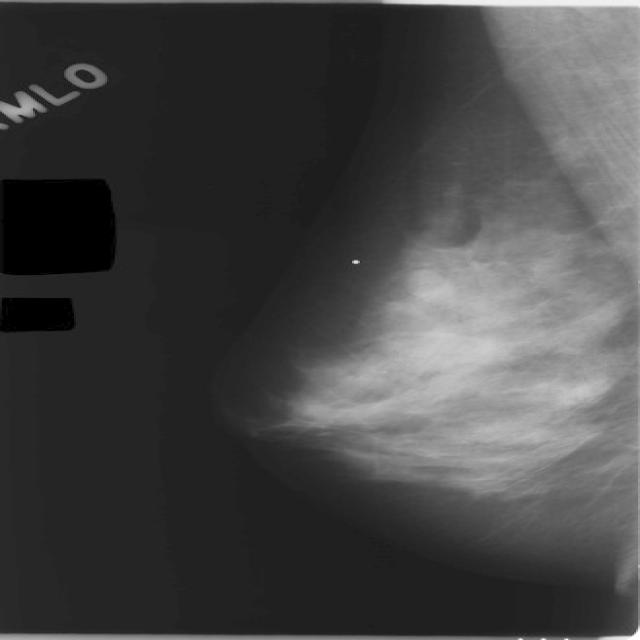tumour: (401, 268, 453, 302)
